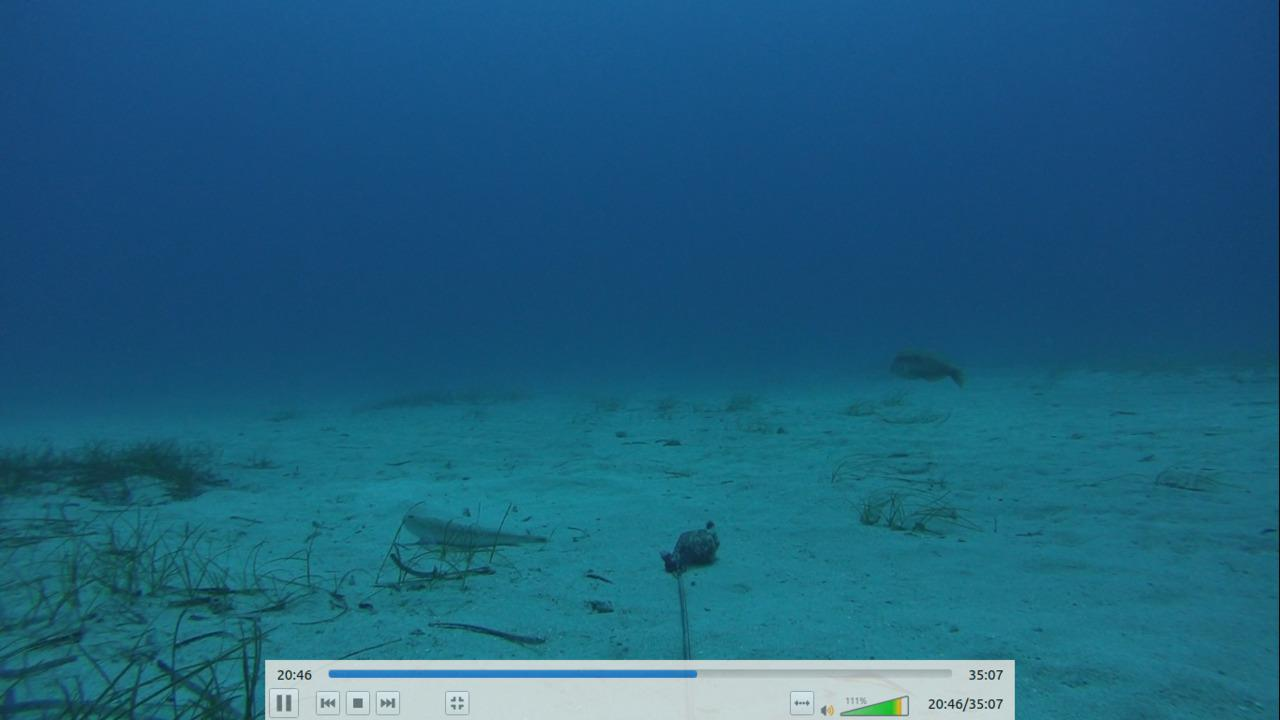raor: (882, 349, 965, 384)
